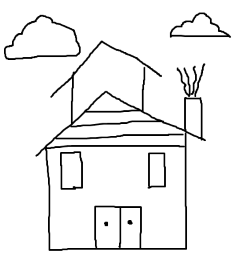clouds: (0, 7, 85, 60), (166, 9, 234, 51)
door: (89, 201, 146, 254)
open_window: (54, 147, 88, 193), (143, 148, 170, 193)
roof: (25, 88, 217, 154)
smoking_chimney: (169, 61, 221, 145)
wall: (32, 141, 196, 252)
